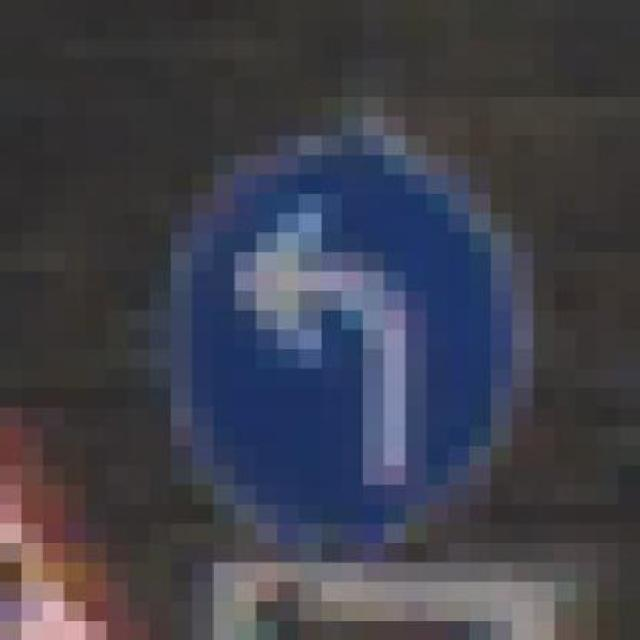Turn left ahead: (128, 78, 534, 582)
